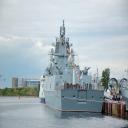Fragata: (43, 16, 106, 115)
